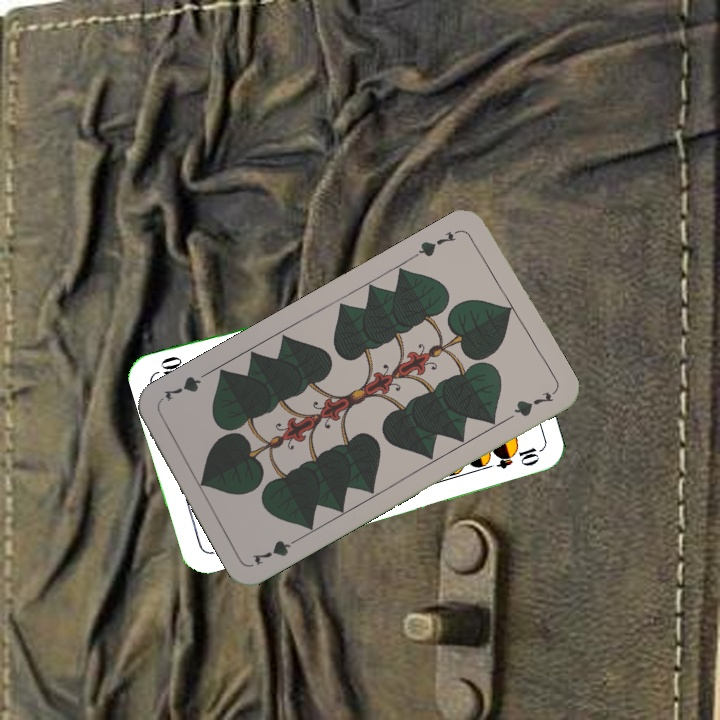G7: (248, 532, 305, 568), (409, 225, 464, 260)
